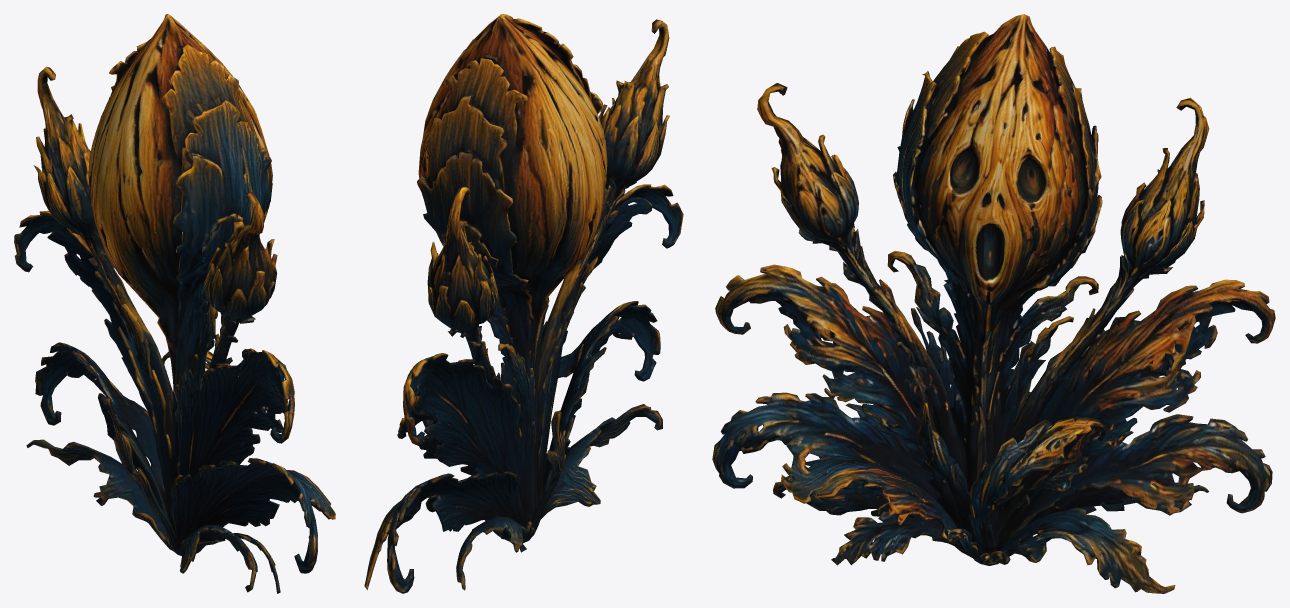
The model's file is alien+plant+3d+model+1k.glb.
The picture shows the model from 3 angles, left to right: view 1: azimuth 30°, elevation 25°; view 2: azimuth 150°, elevation 25°; view 3: azimuth 270°, elevation 25°; orthographic projection. The views are drawn at different scales.
Visible parts, largest first — view 1: tripo_node_b7445719-d2e1-432a-a05f-8bef78f8db93; view 2: tripo_node_b7445719-d2e1-432a-a05f-8bef78f8db93; view 3: tripo_node_b7445719-d2e1-432a-a05f-8bef78f8db93.
Part boxes in pixels (x1=…): tripo_node_b7445719-d2e1-432a-a05f-8bef78f8db93: x1=14, y1=14, x2=335, y2=593; tripo_node_b7445719-d2e1-432a-a05f-8bef78f8db93: x1=364, y1=14, x2=683, y2=593; tripo_node_b7445719-d2e1-432a-a05f-8bef78f8db93: x1=712, y1=14, x2=1275, y2=593.
Bounding box in the file's own units: 0.3257 × 1 × 0.9287.
1 material, 1 textured.
